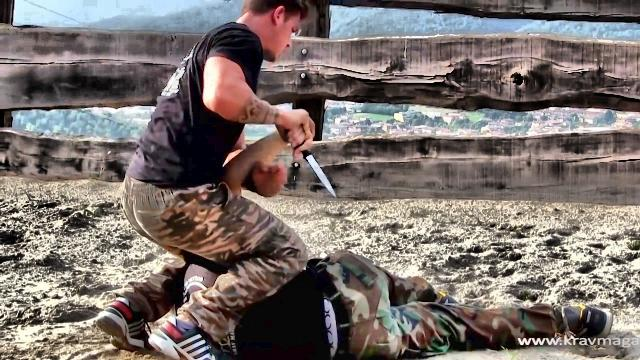knife: (288, 130, 340, 202)
